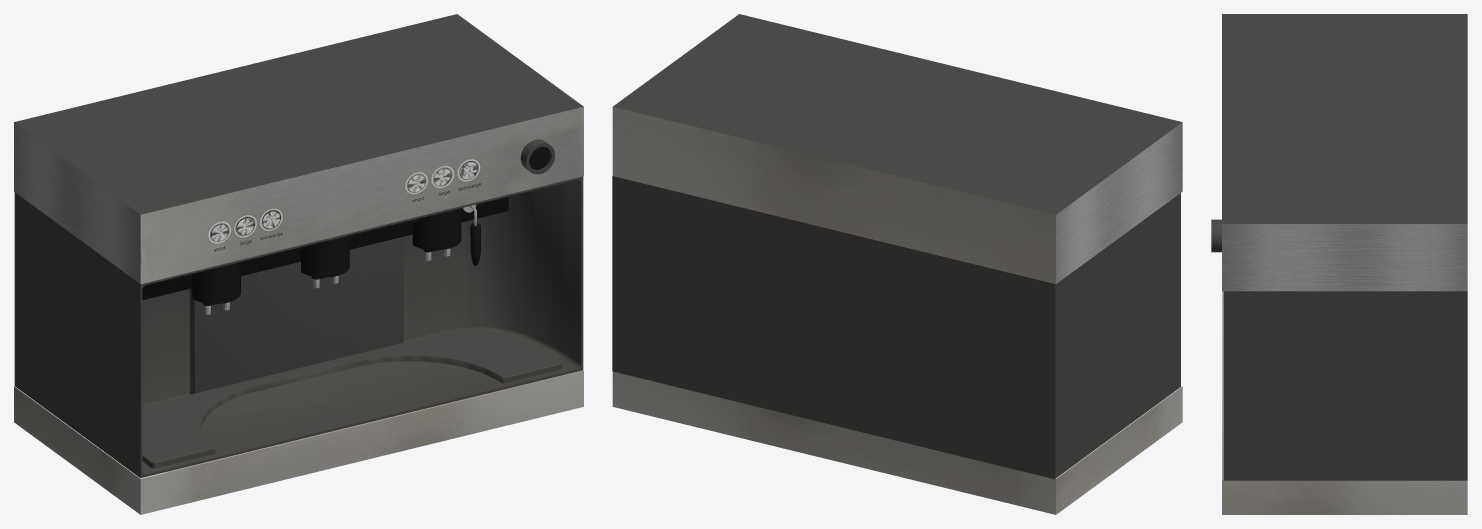
Rendered from Coffee machine.FBX.
3 renders of one model, left to right at view 1: azimuth 30°, elevation 25°; view 2: azimuth 150°, elevation 25°; view 3: azimuth 270°, elevation 25°, orthographic. The views are drawn at different scales.
Visible parts, largest first — view 1: coffee machine; view 2: coffee machine; view 3: coffee machine.
Boxes of the visible parts, x1=… form: coffee machine: x1=14, y1=14, x2=583, y2=514; coffee machine: x1=612, y1=14, x2=1182, y2=514; coffee machine: x1=1211, y1=14, x2=1467, y2=514.
Bounding box in the file's own units: 92.5 × 59.79 × 47.78.
Materials: 1 (1 with a texture image).
